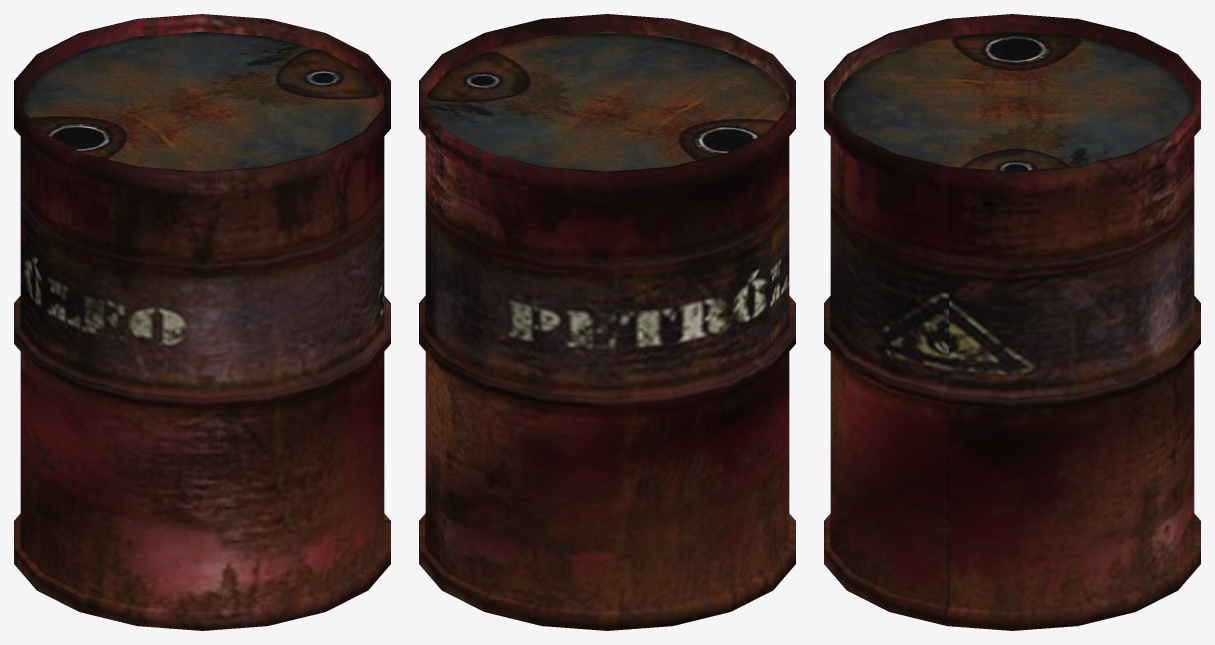
The model's file is barrels-08.FBX.
The picture shows the model from 3 angles, left to right: view 1: azimuth 30°, elevation 25°; view 2: azimuth 150°, elevation 25°; view 3: azimuth 270°, elevation 25°; orthographic projection.
Parts seen in each view (by area): view 1: Cylinder001; view 2: Cylinder001; view 3: Cylinder001.
Part boxes in pixels (x1,y1,x2,y2): Cylinder001: (14, 14, 390, 630); Cylinder001: (419, 14, 795, 630); Cylinder001: (824, 14, 1200, 630).
Bounding box in the file's own units: 29.89 × 39.42 × 29.44.
Materials: 1 (1 with a texture image).
